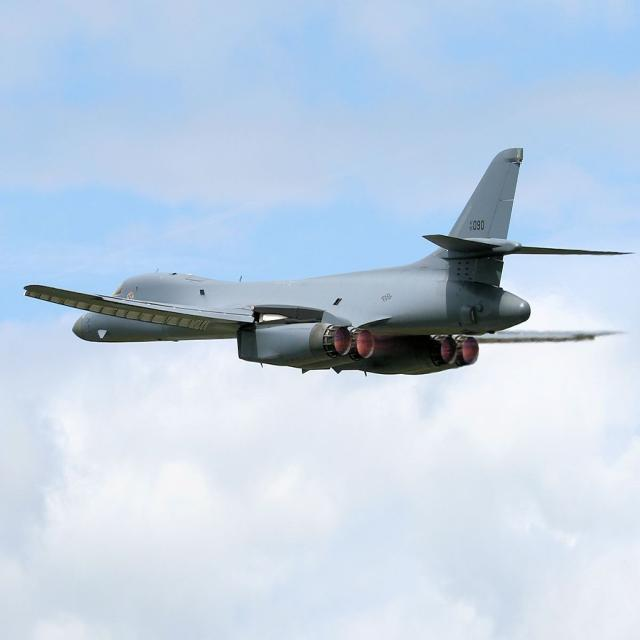B1: (27, 117, 629, 418)
